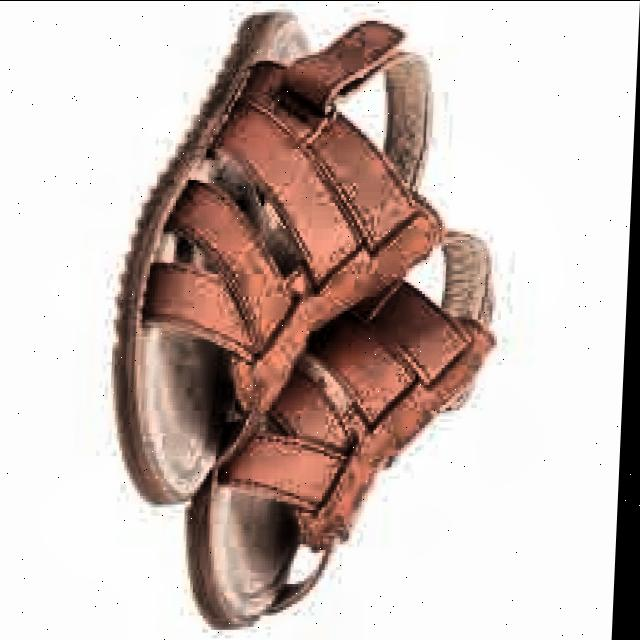shoes: (98, 2, 528, 632)
